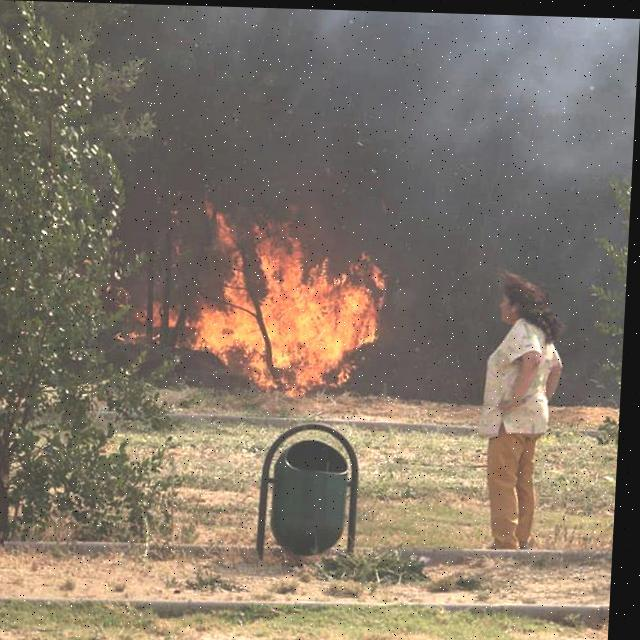Fire: (194, 198, 396, 392), (143, 296, 194, 326)
